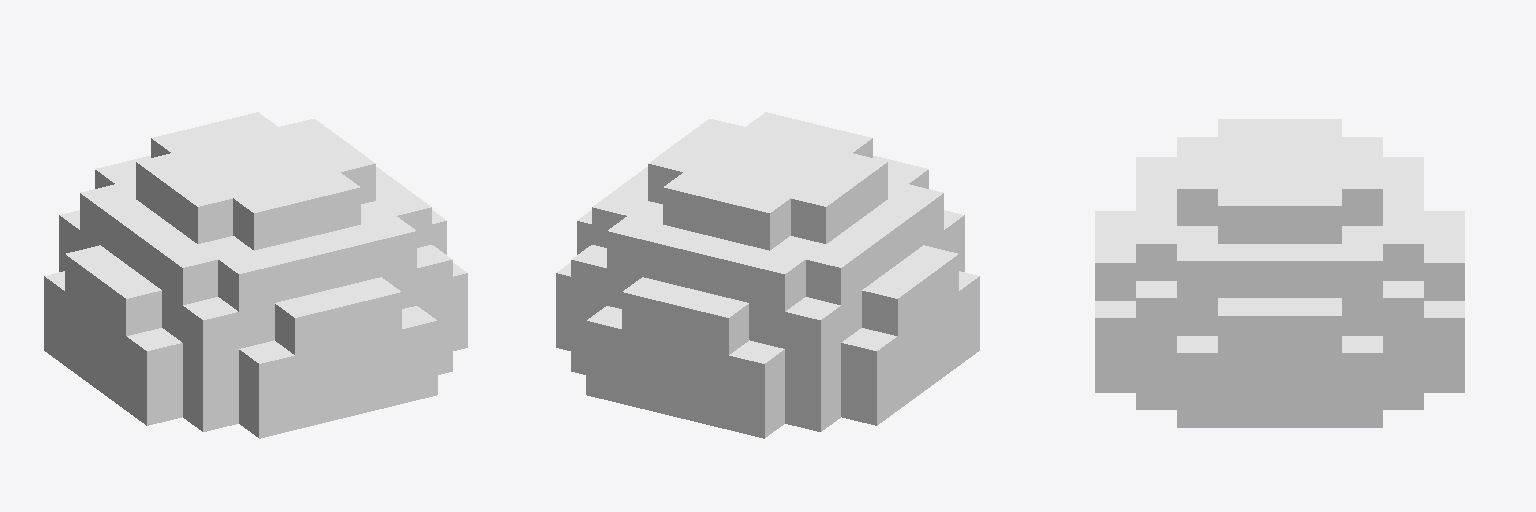
The model's file is Carrot_fase_3_carrot.obj.
3 renders of one model, left to right at view 1: azimuth 30°, elevation 25°; view 2: azimuth 150°, elevation 25°; view 3: azimuth 270°, elevation 25°, orthographic.
Visible parts, largest first — view 1: object 1; view 2: object 1; view 3: object 1.
Part boxes in pixels (left/top/right/bottom): object 1: left=44, top=112, right=467, bottom=438; object 1: left=556, top=112, right=979, bottom=438; object 1: left=1095, top=119, right=1464, bottom=427.
Size of the model in its own units: 0.9 by 0.5 by 0.9.